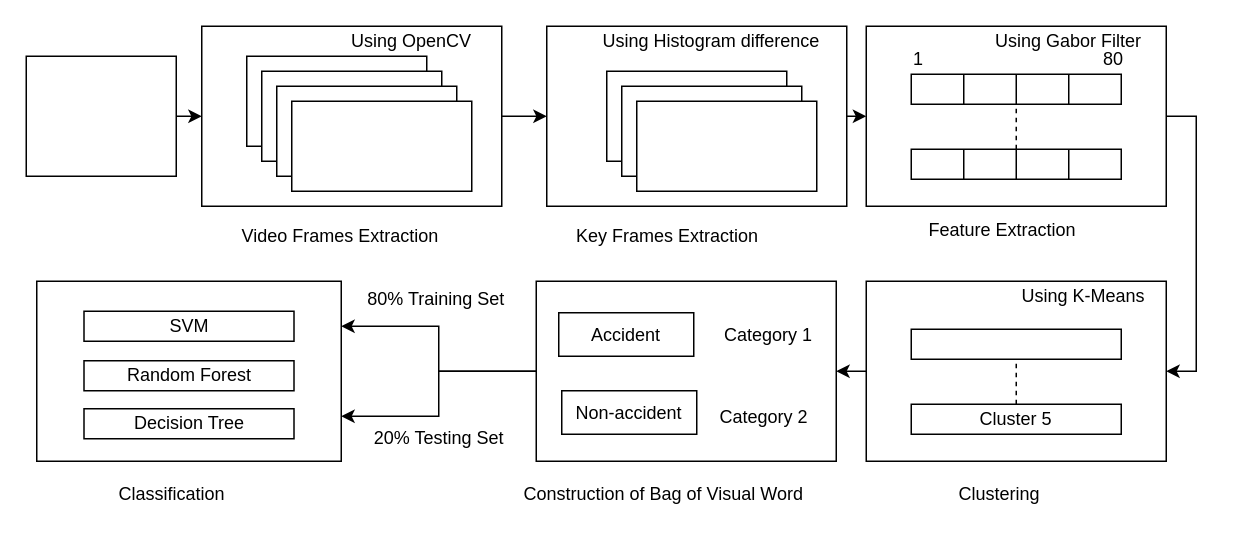
This 1235x536 diagram has some shape labels left out. The shapes that lost their labels are listed below. From the top down, each one's centre as x and y in pixels, then its label:
At (x=100, y=115): "Input Video".
At (x=1015, y=343): "Cluster 1".
